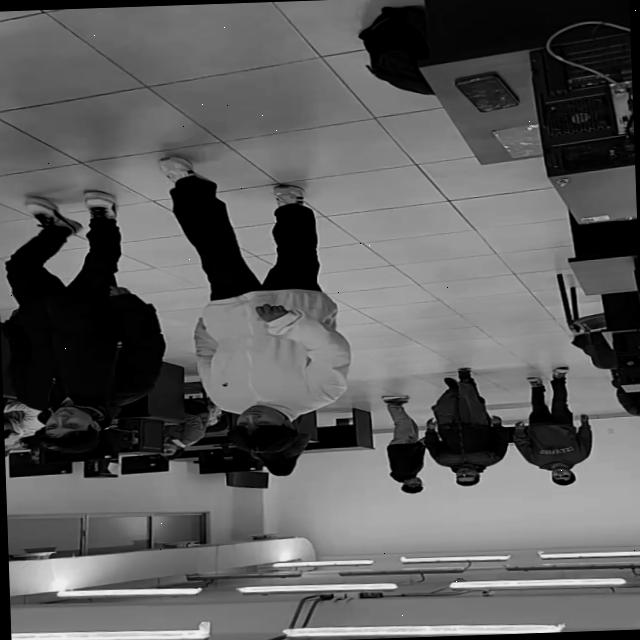Persona: (145, 160, 338, 455), (1, 185, 144, 452), (505, 369, 594, 488), (428, 372, 498, 489), (380, 383, 428, 498)
